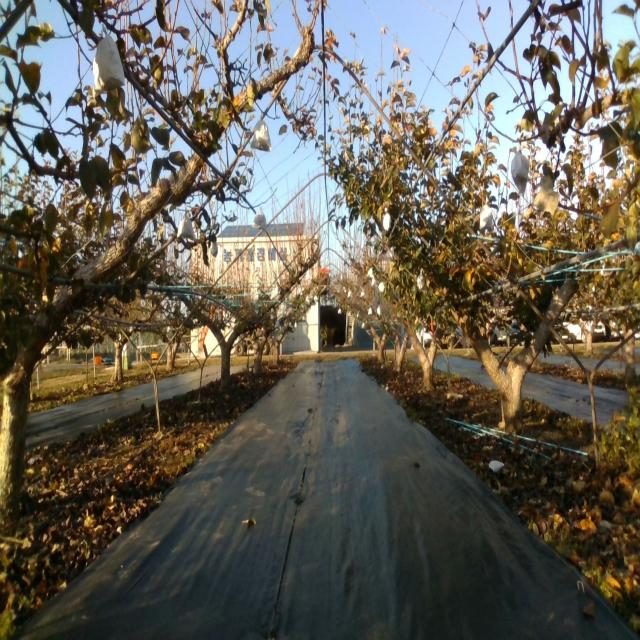pearbags: (90, 36, 125, 93), (510, 152, 528, 197), (252, 117, 272, 150), (177, 214, 195, 241), (479, 205, 493, 236), (252, 207, 268, 231)
